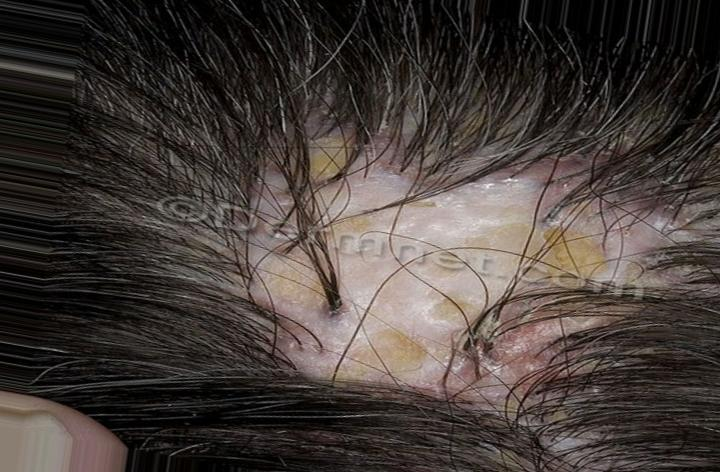Alopecia Areata: (276, 164, 627, 317)
Folliculitis: (443, 300, 591, 405), (517, 153, 606, 215), (253, 299, 316, 357)
